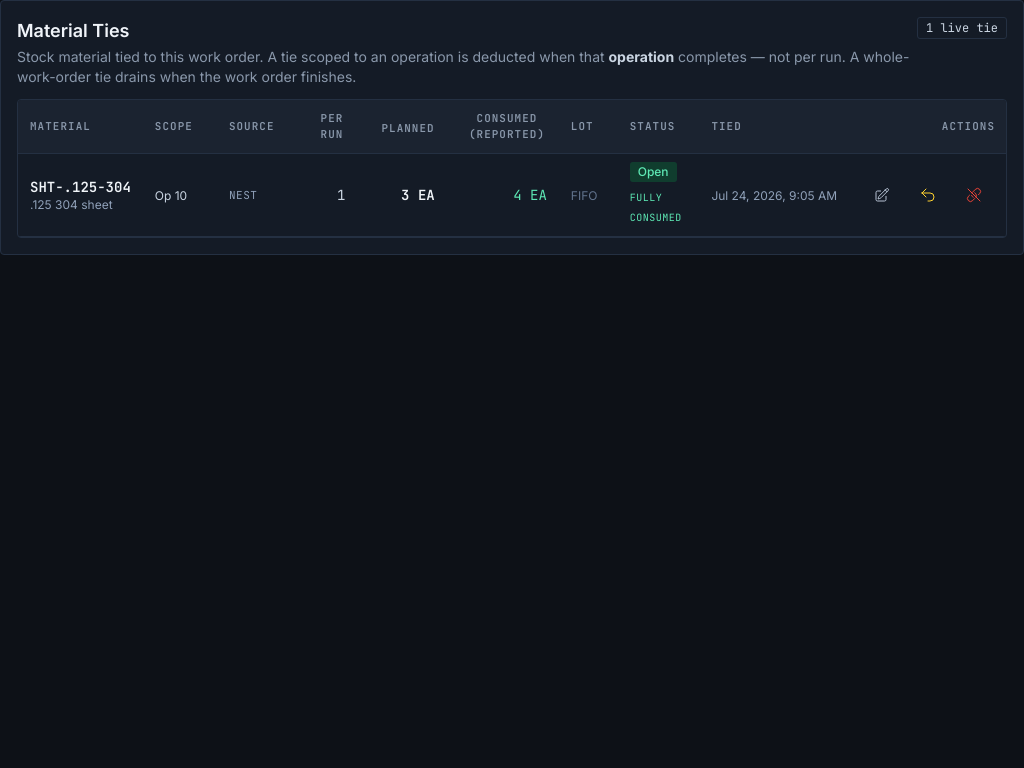
Test case: MaterialTiesPanel — the reasoned RETURN verb › shows the consumed total and WHICH LOTS get credited before confirming
The image size is (1024, 768).
Expected: the text "SHT-.125-304" is shown, [30, 177, 131, 197]
Click the button named "Return consumed SHT-.125-304 to stock": (928, 195) [907, 179, 949, 211]
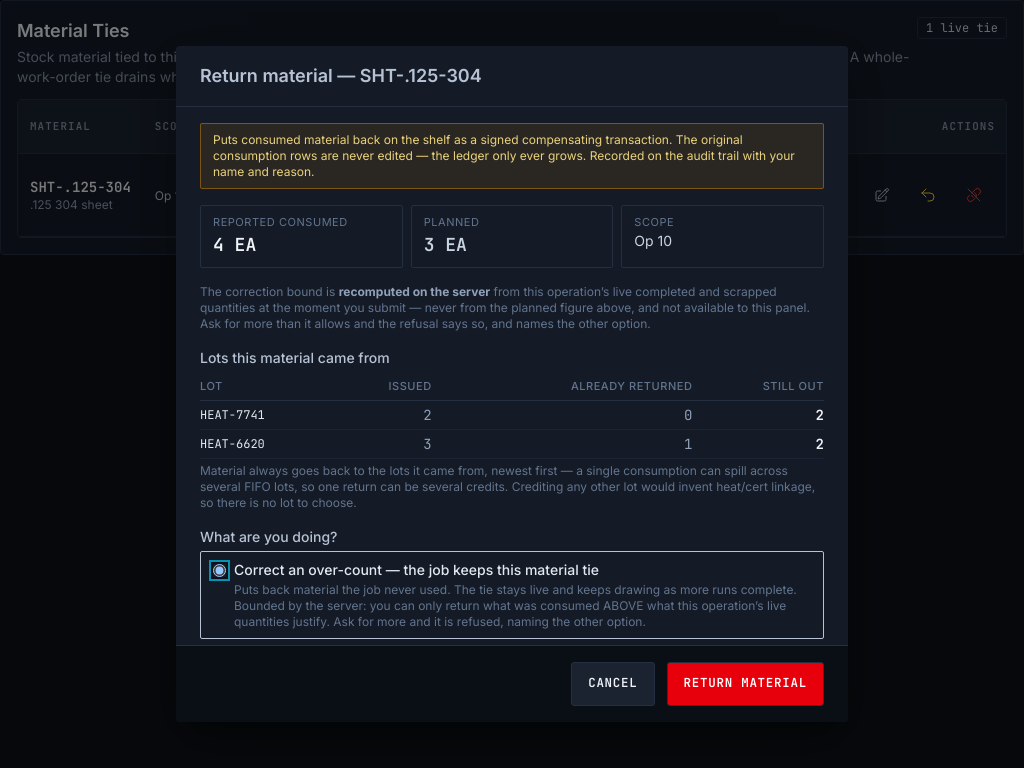
Now the text with test id "wo-tie-return-consumed" reads "4 EA", box [213, 233, 256, 256]
Now the text "HEAT-7741" is shown, box [200, 400, 339, 429]
Now the text "HEAT-6620" is shown, box [200, 429, 339, 458]
